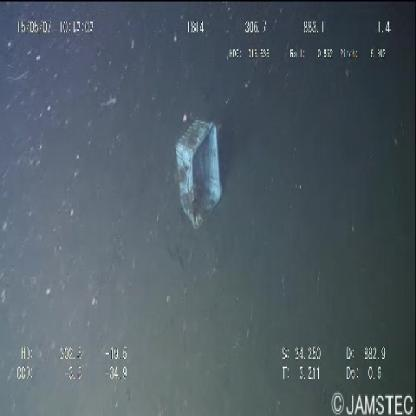Rác: (169, 108, 230, 239)
